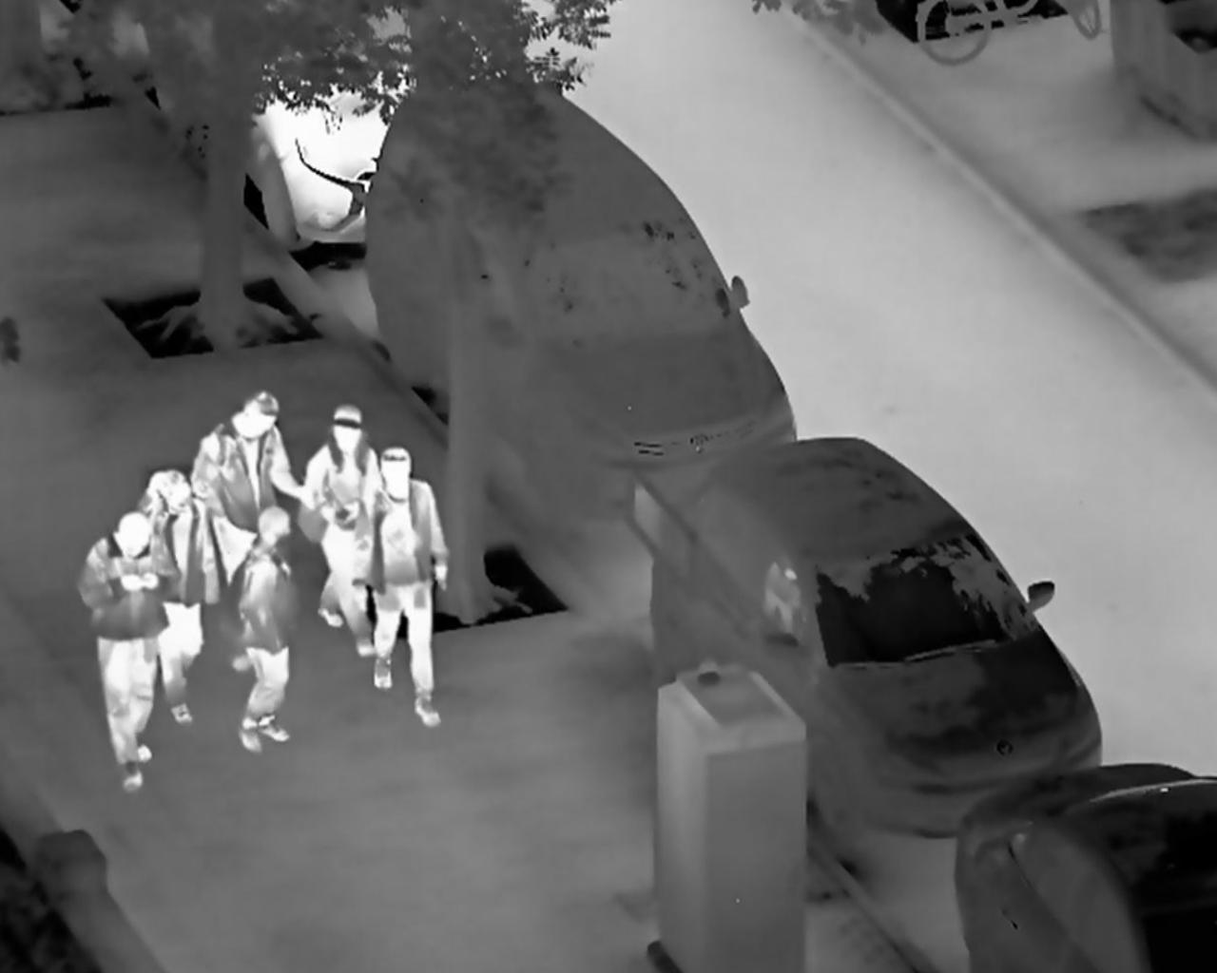person: (77, 508, 189, 796), (353, 446, 452, 730), (190, 387, 301, 590), (138, 463, 216, 729), (296, 401, 377, 657), (238, 504, 297, 755)
